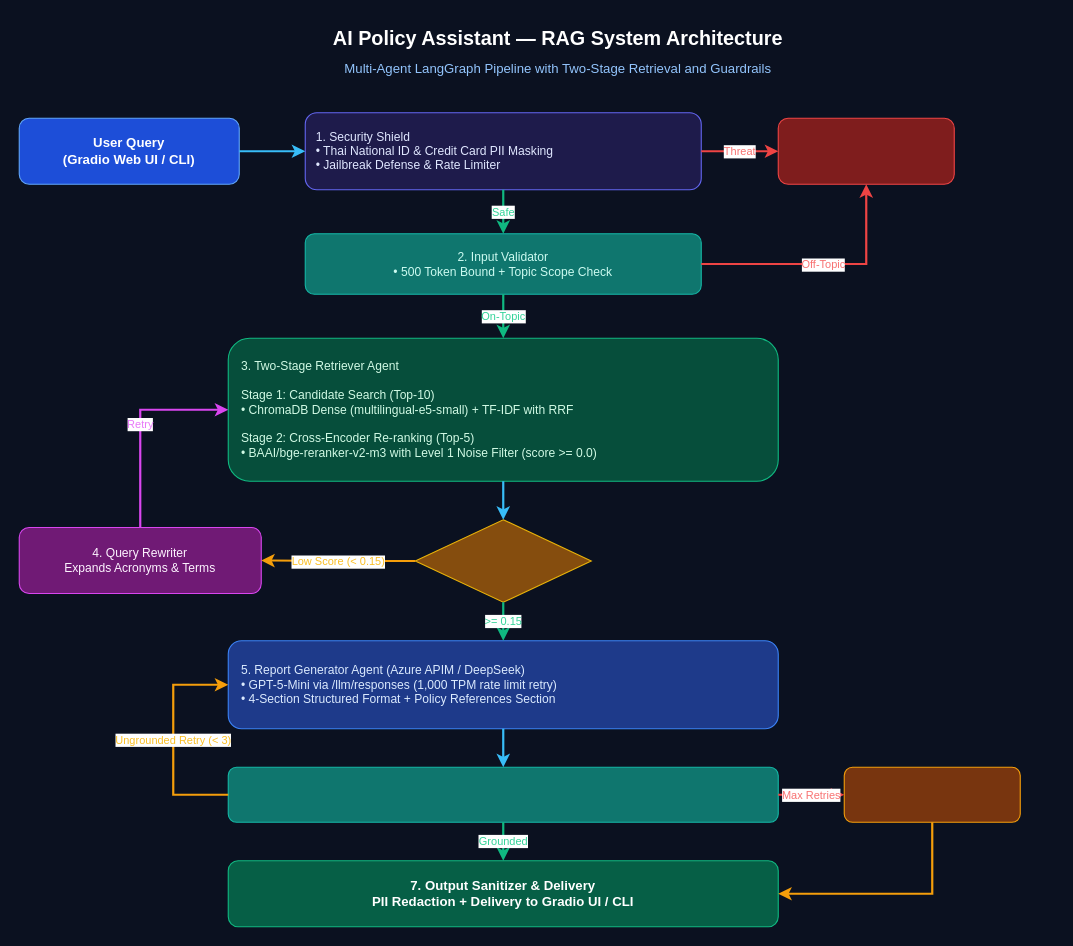
This 1073x946 diagram has some shape labels left out. The shapes that lost their labels are listed below. From the top down, each one's centre as x and y in pixels, then its label:
At (x=865, y=150): "Rejection Node • Policy Rejection Message".
At (x=502, y=560): "Relevance Score >= 0.15 ?".
At (x=502, y=794): "6. Output Validator Fact Checking against Source Snippets".
At (x=931, y=794): "Raw Excerpts Fallback Snippets".
